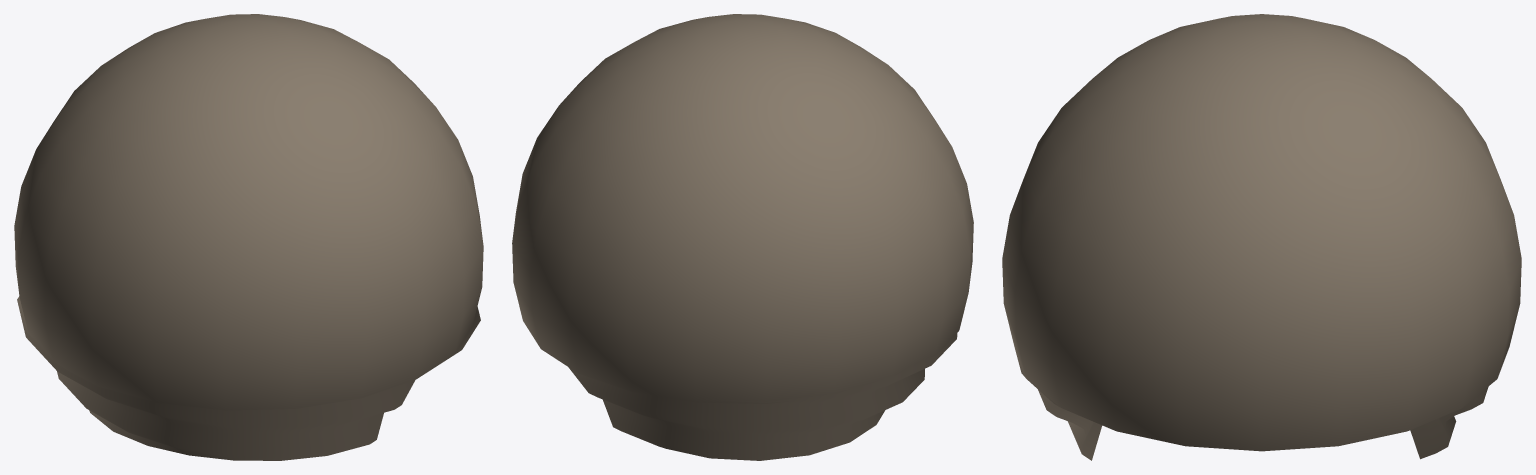
The model's file is wavy.glb.
3 renders of one model, left to right at view 1: azimuth 30°, elevation 25°; view 2: azimuth 150°, elevation 25°; view 3: azimuth 270°, elevation 25°, orthographic. The views are drawn at different scales.
Parts seen in each view (by area): view 1: Hair_wavy; view 2: Hair_wavy; view 3: Hair_wavy.
Part boxes in pixels (x1=…): Hair_wavy: x1=14, y1=14, x2=483, y2=460; Hair_wavy: x1=512, y1=14, x2=973, y2=460; Hair_wavy: x1=1002, y1=14, x2=1521, y2=460.
Bounding box in the file's own units: 2.42 × 2.05 × 2.42.
